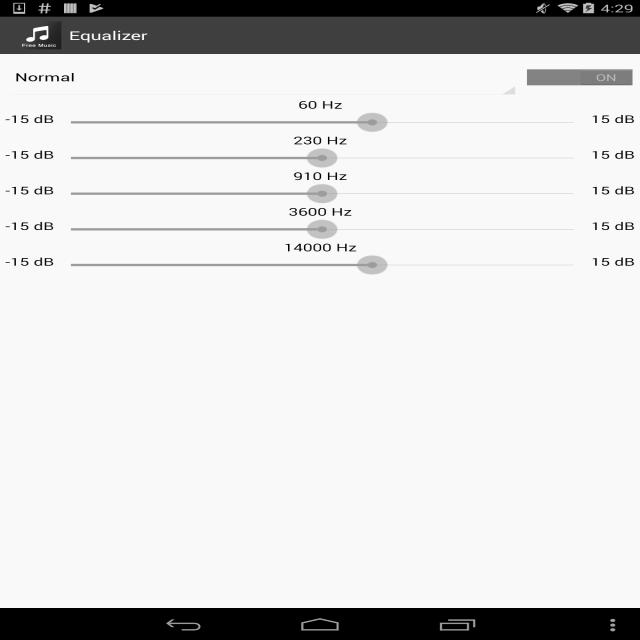ImageView: (14, 19, 64, 52)
SeekBar: (54, 147, 591, 169), (54, 254, 591, 276), (54, 112, 591, 133), (54, 183, 591, 204), (54, 219, 591, 240)
Spinner: (6, 58, 520, 98)
Switch: (524, 68, 634, 87)
TextView: (5, 97, 635, 112), (5, 204, 635, 219), (5, 133, 635, 147), (5, 169, 635, 183), (5, 240, 635, 254), (15, 69, 497, 85), (69, 27, 148, 43), (5, 147, 54, 162), (5, 254, 54, 269), (5, 112, 54, 126), (5, 183, 54, 197), (5, 219, 54, 233), (591, 147, 635, 162), (591, 254, 635, 269), (591, 112, 635, 126), (591, 183, 635, 197), (591, 219, 635, 233)
